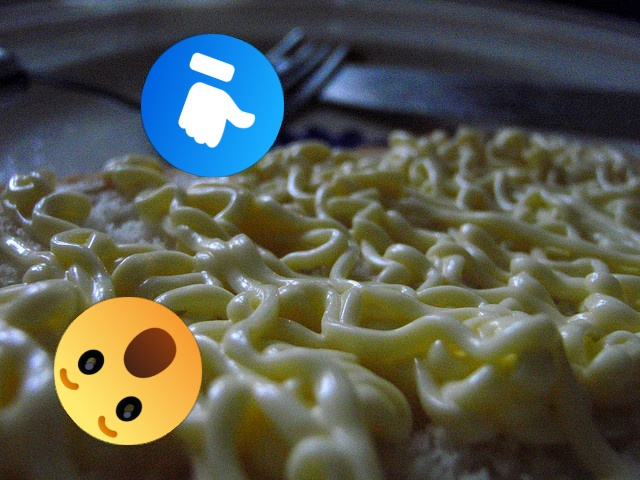like: (141, 34, 284, 177)
wow: (54, 297, 202, 445)
